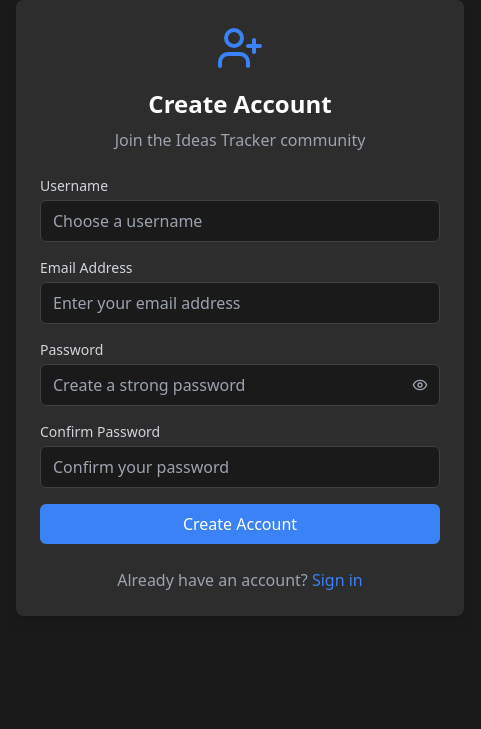
Test: RegisterForm › shows validation error for invalid username
The width and height of the screenshot is (481, 729).
Type "ab" into the field labelled "Username" at (240, 221), box top-left (40, 200), bottom-right (440, 242)
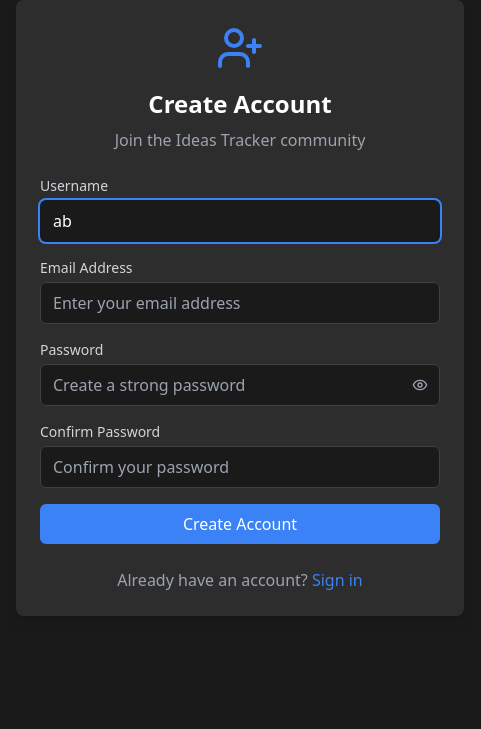
Click the button "Create Account" at (240, 524), box top-left (40, 504), bottom-right (440, 544)
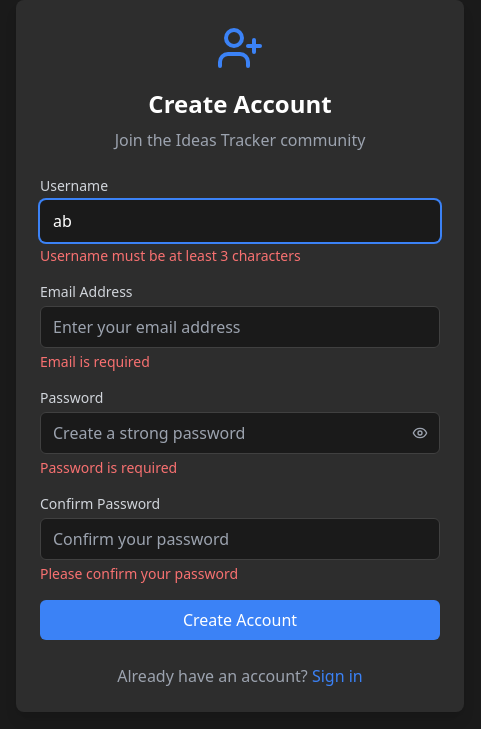
Result: the text "Username must be at least 3 characters" is shown at top-left (40, 246), bottom-right (301, 265)
